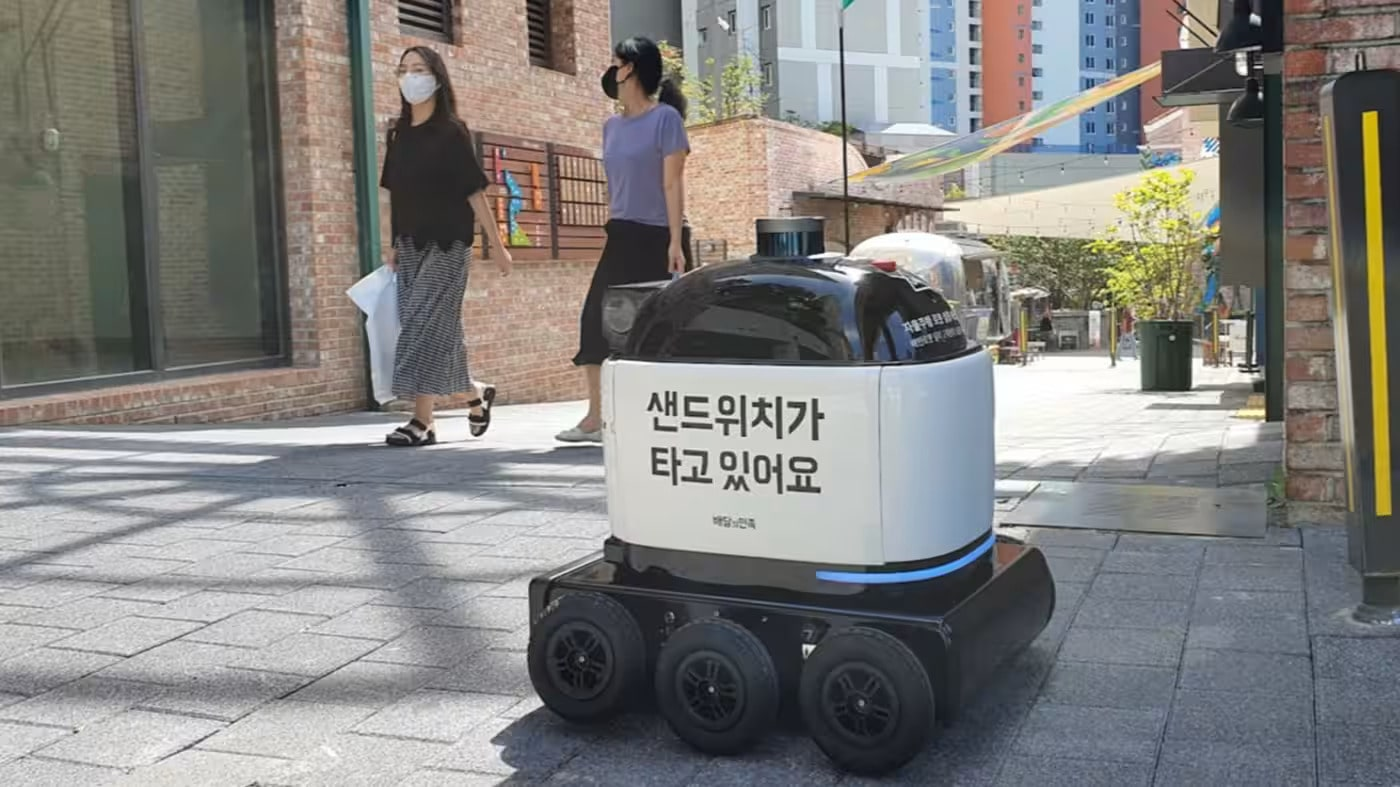Person: (327, 39, 525, 451), (555, 35, 702, 463)
